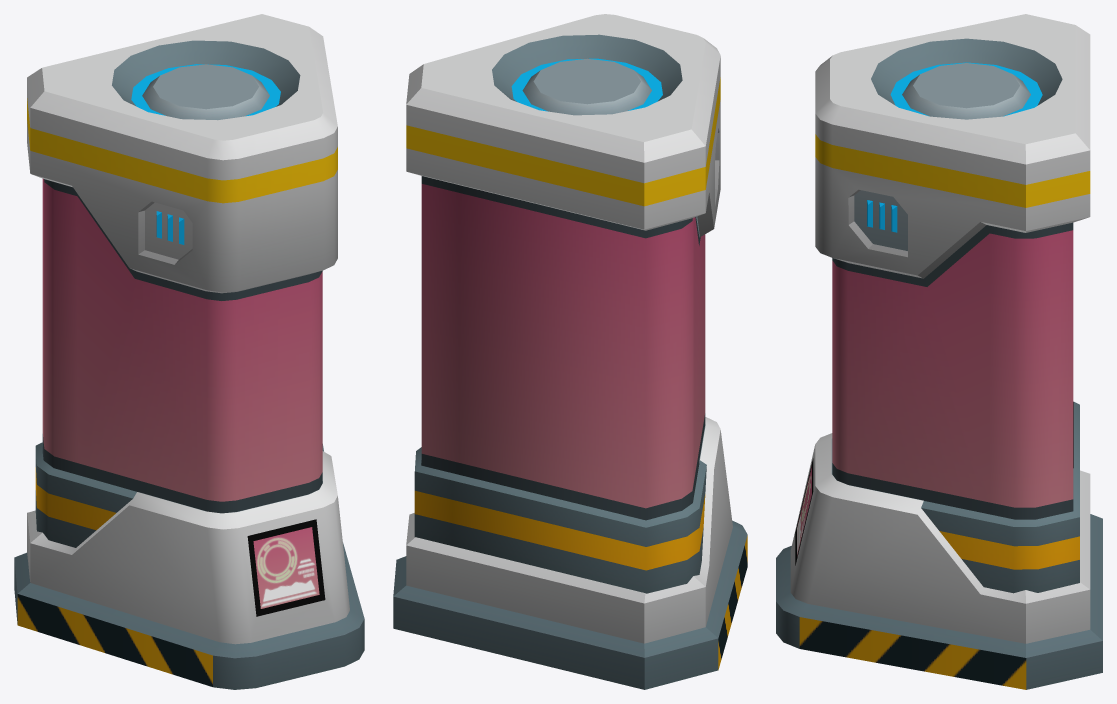
3 views of the same model, side by side, from view 1: azimuth 30°, elevation 25°; view 2: azimuth 150°, elevation 25°; view 3: azimuth 270°, elevation 25° (orthographic).
Parts seen in each view (by area): view 1: Сapsule_005; view 2: Сapsule_005; view 3: Сapsule_005.
Boxes of the visible parts, <box> form: Сapsule_005: <box>14,14,364,689</box>; Сapsule_005: <box>393,14,747,689</box>; Сapsule_005: <box>776,14,1102,689</box>.
Size of the model in its own units: 164 by 145 by 260.
